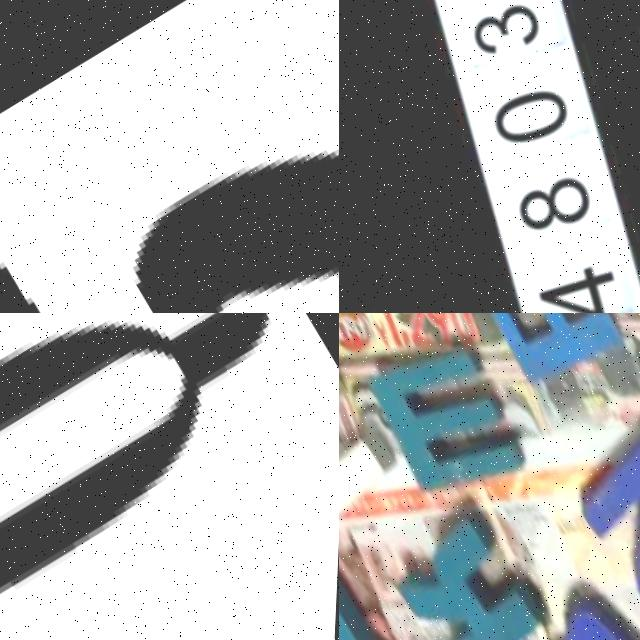0: (464, 54, 602, 183)
3: (444, 0, 569, 89)
4: (509, 227, 640, 313)
6: (0, 0, 339, 313)
8: (490, 145, 624, 269)
B: (503, 569, 640, 640)
H: (339, 349, 405, 534)
K: (382, 505, 560, 640)
M: (355, 320, 540, 515)
N: (560, 415, 640, 617)
P: (462, 313, 627, 384)
Q: (0, 313, 339, 640)
